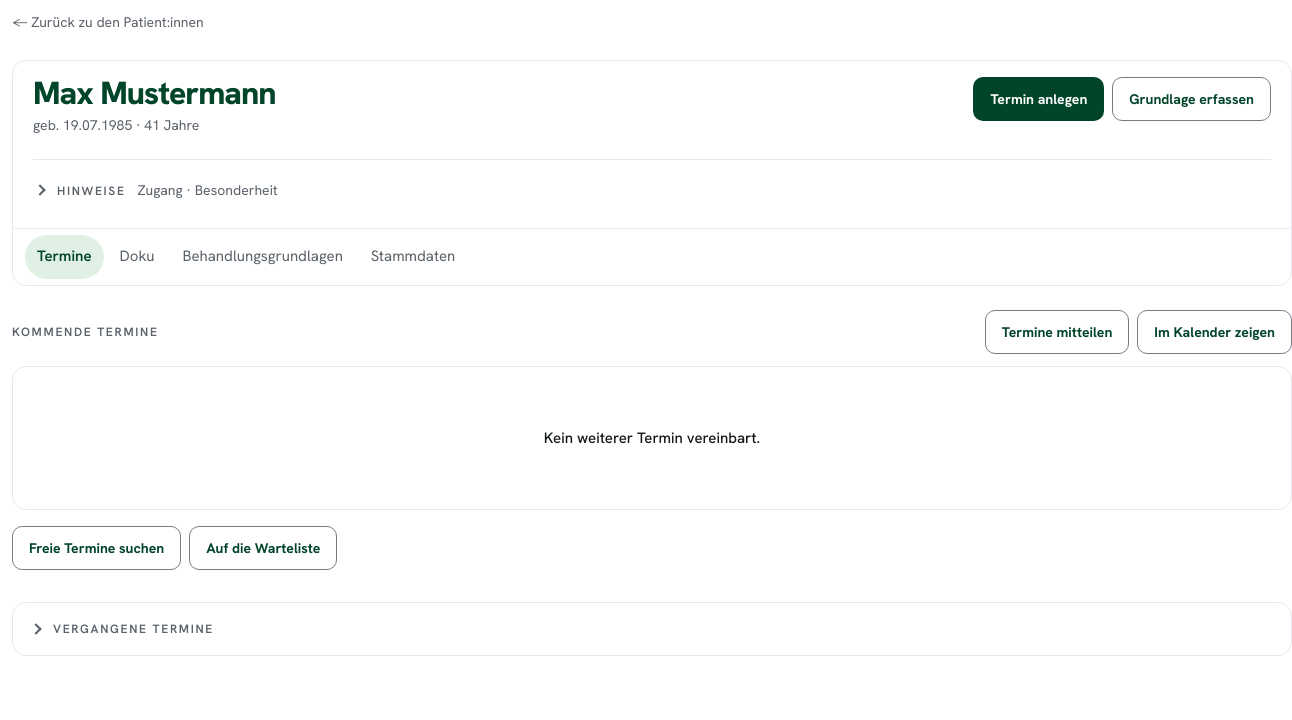
Test: Rahmen der Patientenakte (AKTE-000) › Hinweise vor dem Hausbesuch im Kopf (UI-002a, AKTE-007) › legt Zugang und Besonderheit unter „Hinweise", standardmäßig zu
Click the heading "Hinweise Zugang · Besonderheit" at x=156, y=190, box [34,181,278,199]
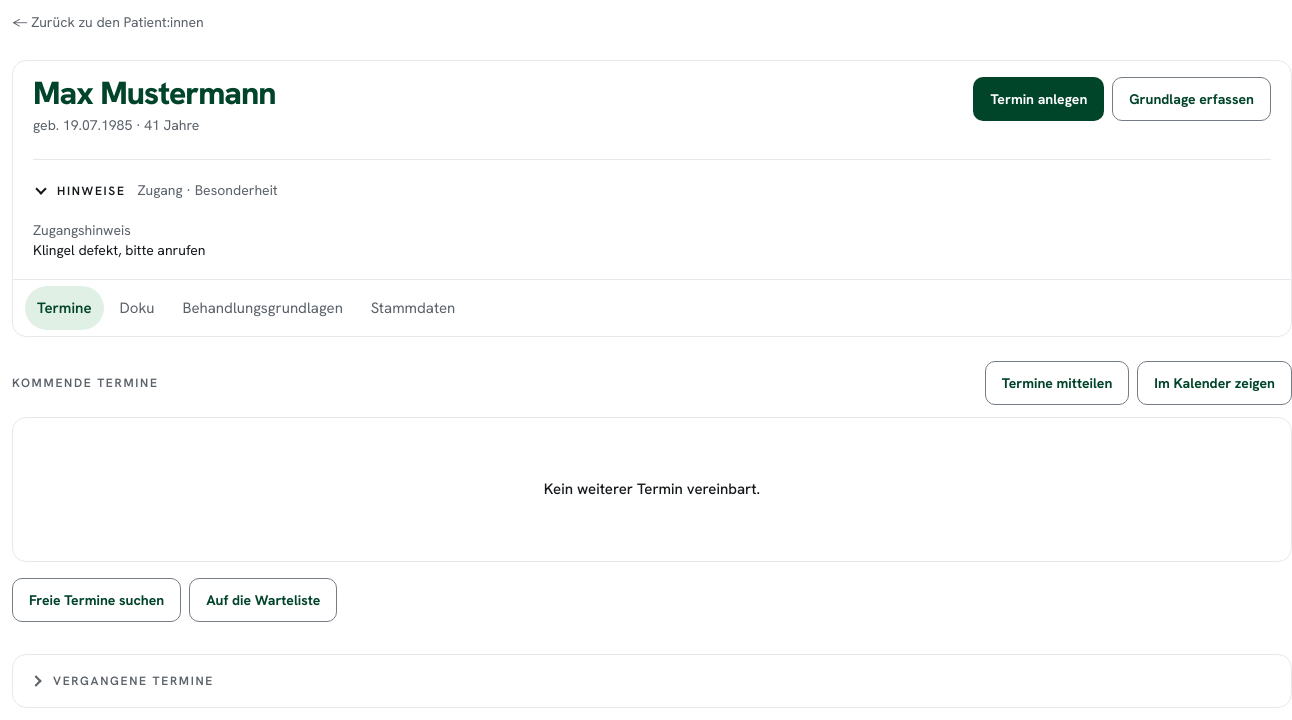
Now the text "Klingel defekt, bitte anrufen" is shown, box [33,241,205,259]
Now the text "Hund im Flur" is shown, box [33,293,113,311]
